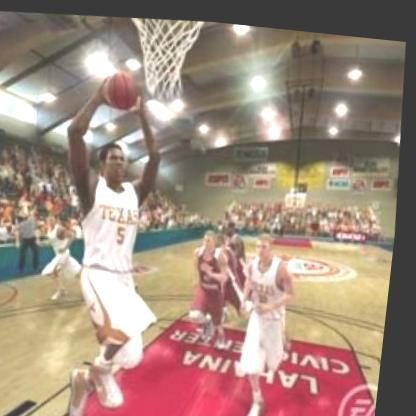basketball: (102, 65, 144, 107)
